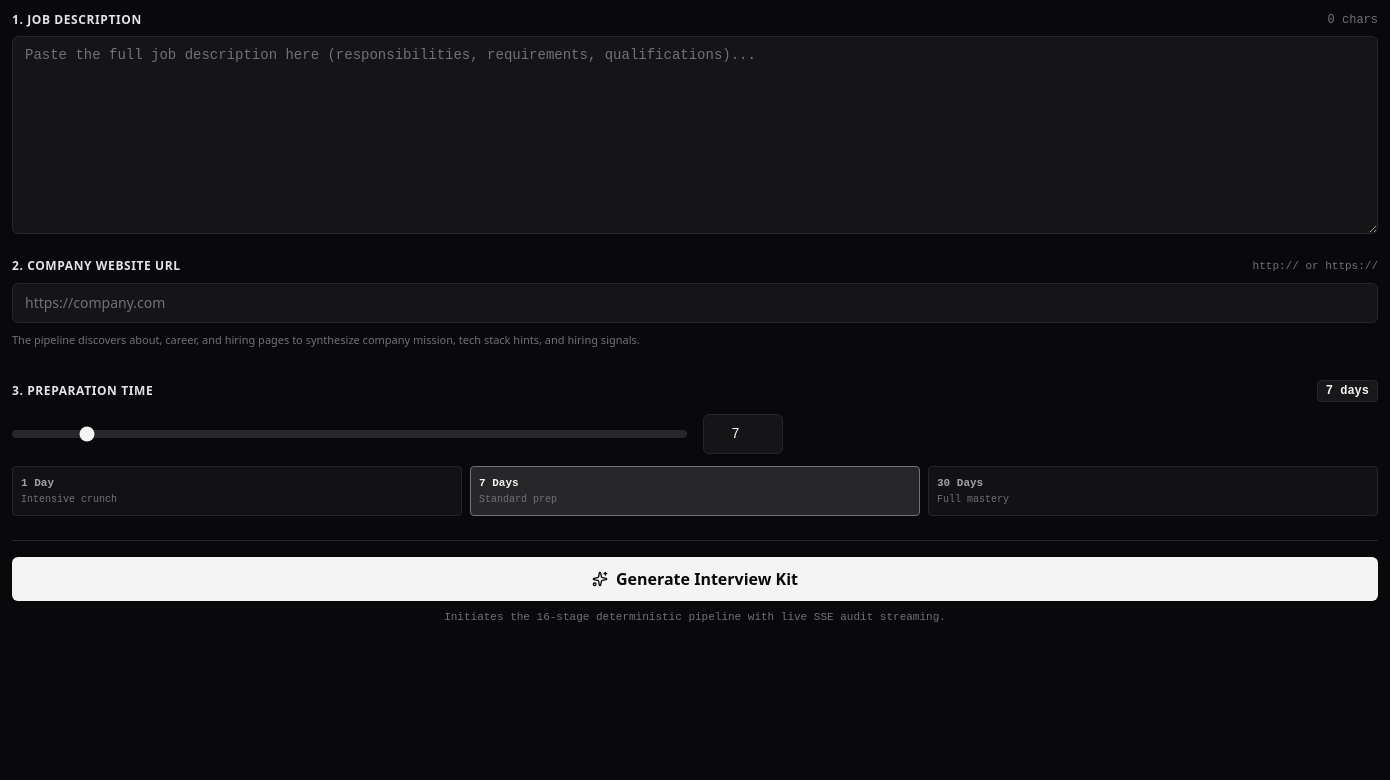
Test case: CreateKitForm › displays thin JD warning when under 400 characters
The width and height of the screenshot is (1390, 780).
Replace the text in the text box labelled "1. Job Description" with "Short JD description under 400 chars." at (695, 135), box [12,36,1378,234]
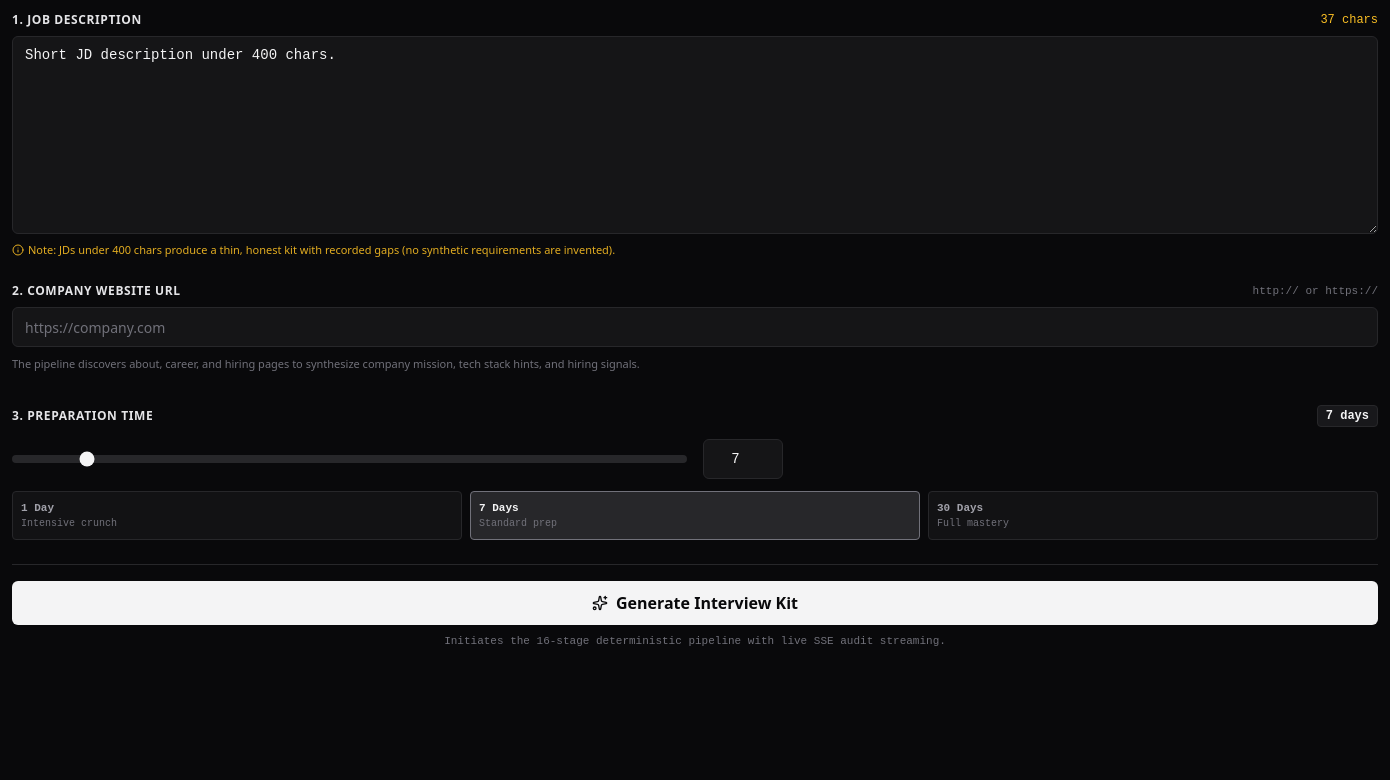
Expected: the text "Note: JDs under 400 chars" is shown, [28,242,615,257]
